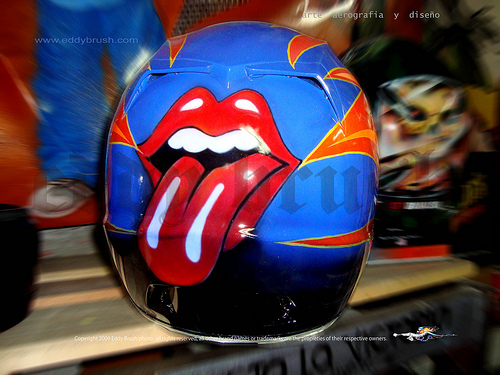helmet: (111, 22, 386, 330)
